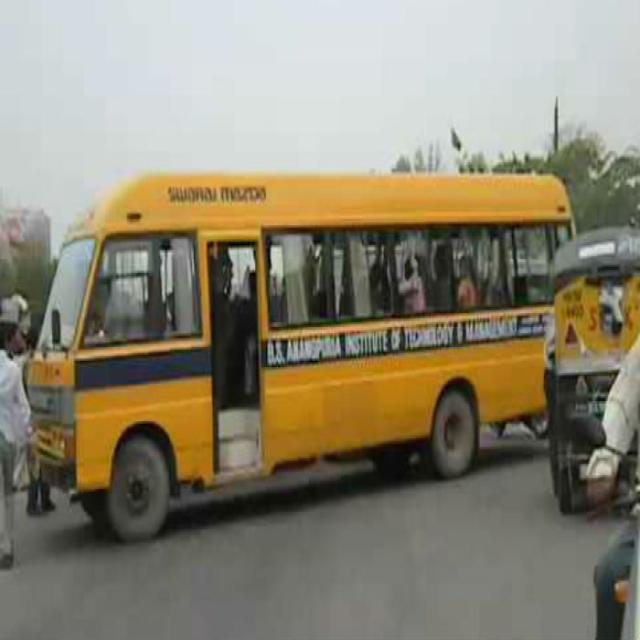bus: (26, 175, 572, 540)
